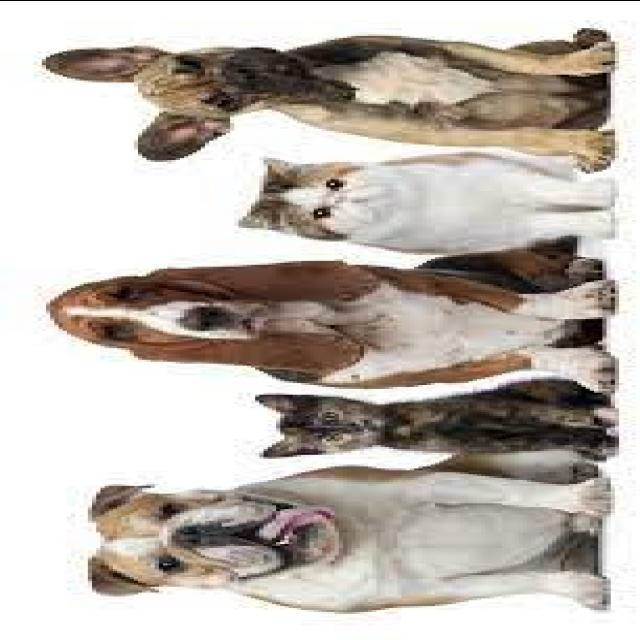cat: (230, 151, 620, 253), (242, 382, 634, 466)
dog: (41, 18, 625, 168), (74, 464, 632, 614), (39, 252, 623, 394)
